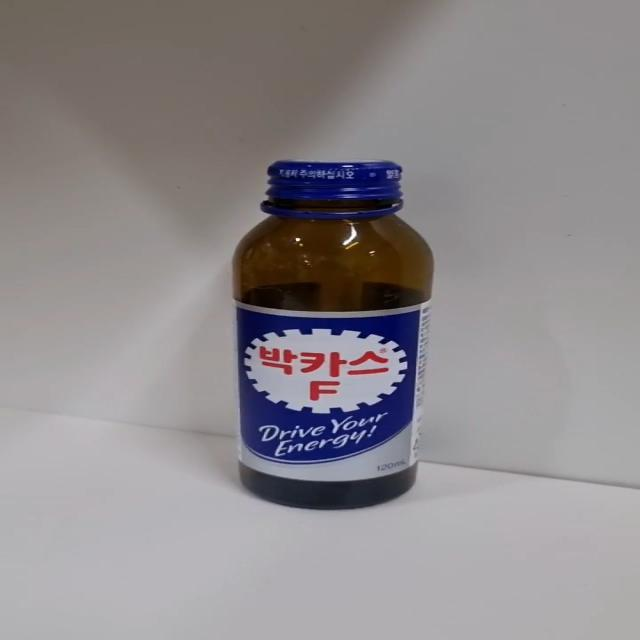Glass: (230, 160, 436, 512)
